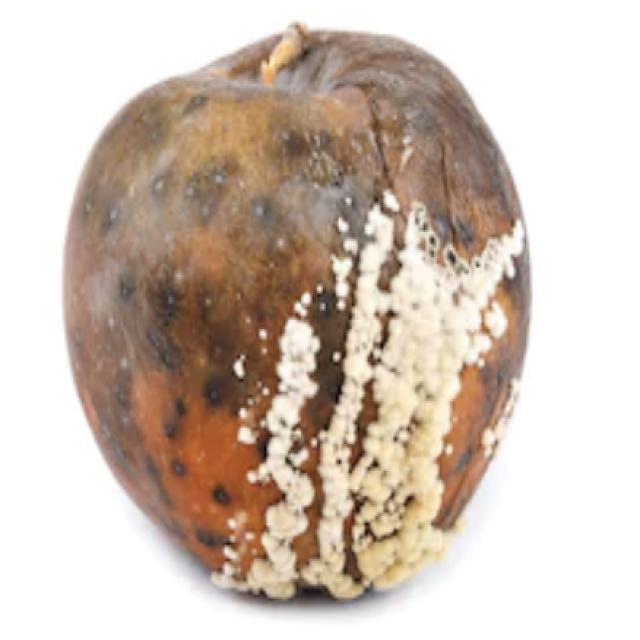Rotten: (60, 18, 536, 604)
